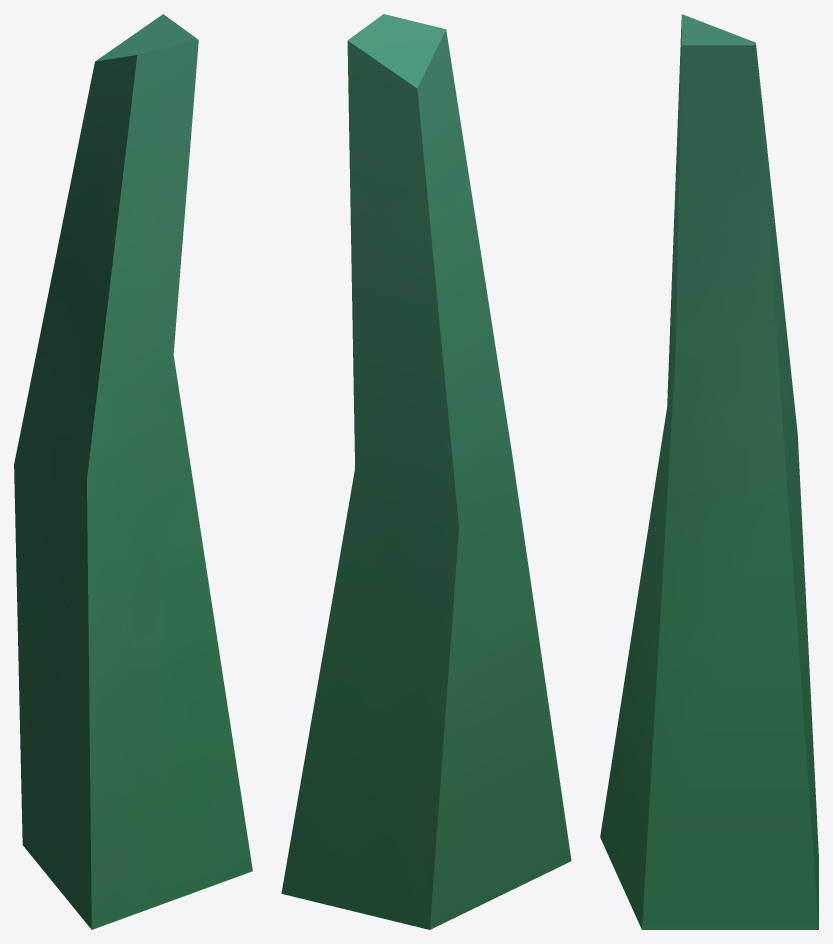
3 views of the same model, side by side, from view 1: azimuth 30°, elevation 25°; view 2: azimuth 150°, elevation 25°; view 3: azimuth 270°, elevation 25° (orthographic). The views are drawn at different scales.
Parts seen in each view (by area): view 1: Reed001; view 2: Reed001; view 3: Reed001.
Part boxes in pixels (x1,y1,x2,y2): Reed001: (14, 14, 252, 929); Reed001: (281, 14, 571, 929); Reed001: (600, 14, 818, 929).
Bounding box in the file's own units: 0.9351 × 4.08 × 0.9324.
1 material, 1 textured.
